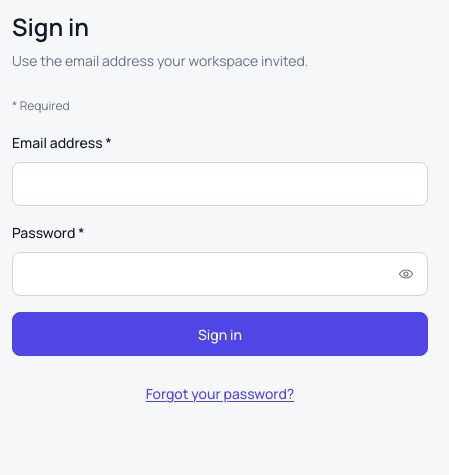
Test case: LoginForm › refuses to submit an empty form, and says what is missing on each field
This screenshot has width=449, height=475.
Click the button "Sign in" at [220, 334], box [12,312,428,356]
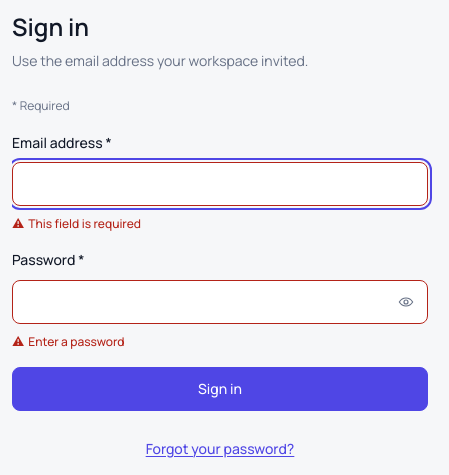
Check: the text "This field is required" is shown, box [28,215,141,232]
Check: the text "Enter a password" is shown, box [28,332,125,350]
